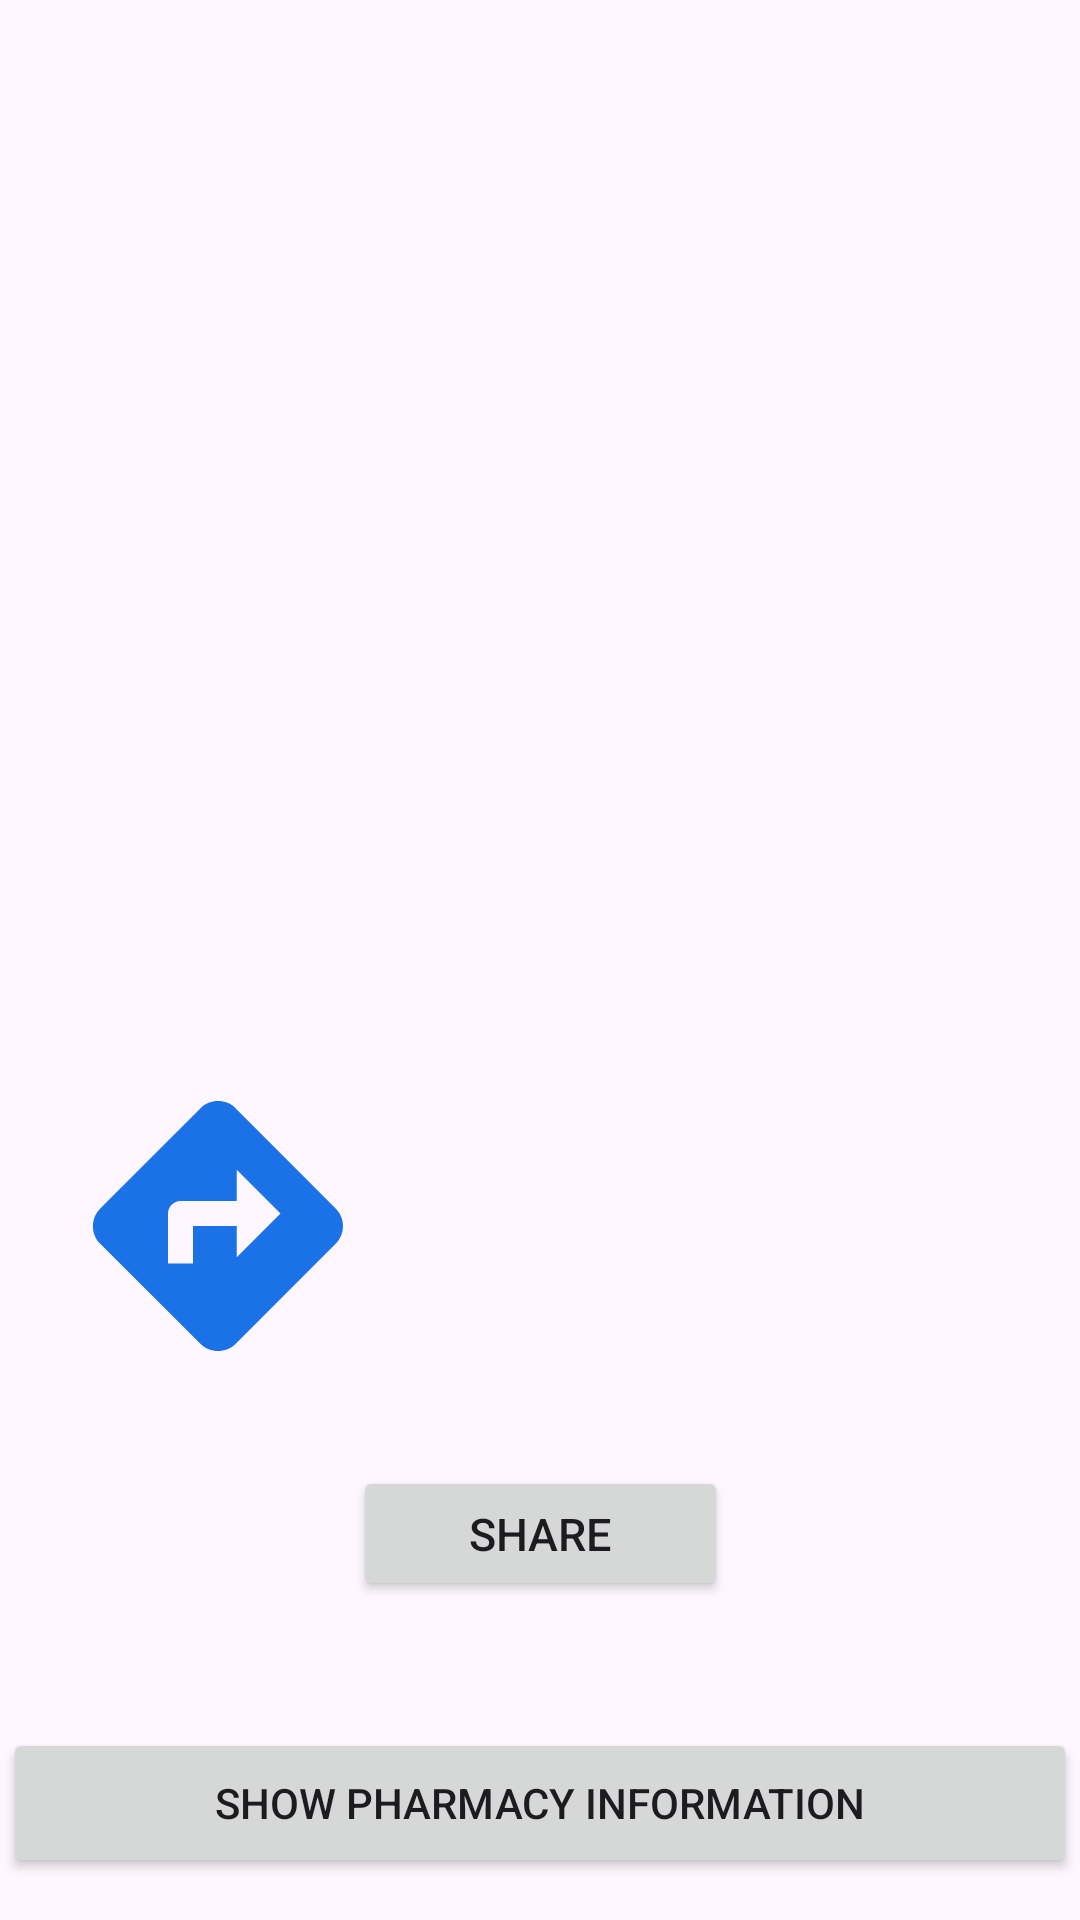

Locate icon controls on the screen. Image size 1080 × 1920, boxes as (x1, y1, x2, y2).
directions: (93, 1101, 343, 1351)
